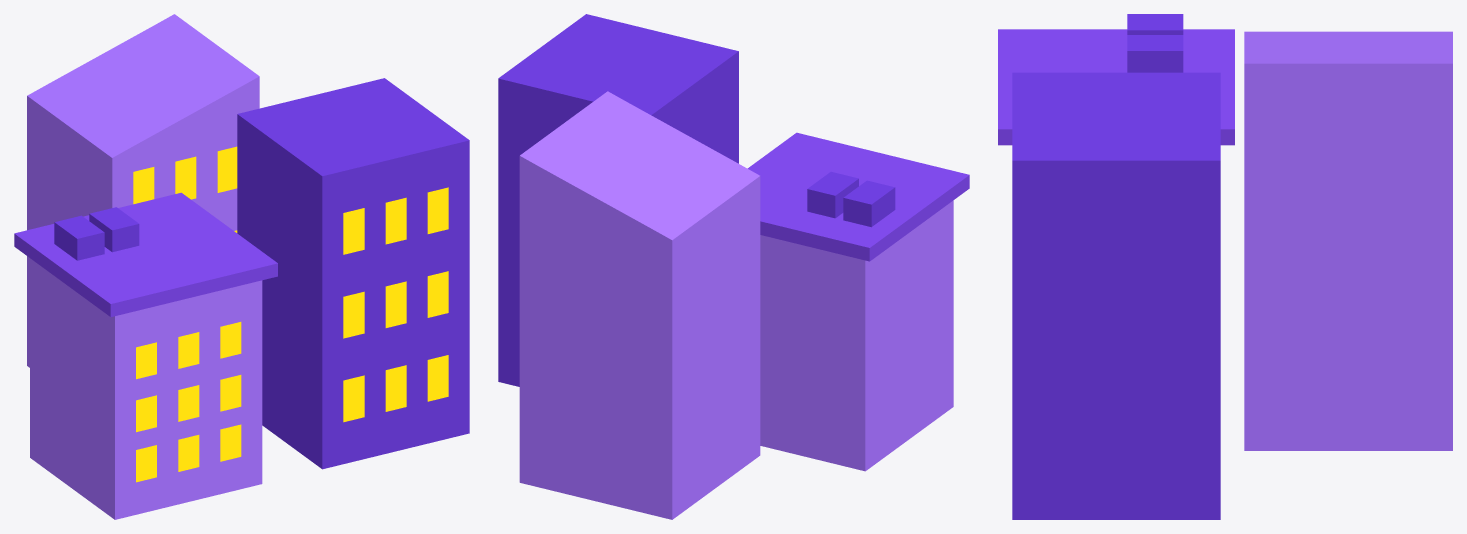
The model's file is cityscape_at_dusk.glb.
The picture shows the model from 3 angles, left to right: view 1: azimuth 30°, elevation 25°; view 2: azimuth 150°, elevation 25°; view 3: azimuth 270°, elevation 25°; orthographic projection. The views are drawn at different scales.
Visible parts, largest first — view 1: Cube.532; view 2: Cube.532; view 3: Cube.532.
Boxes of the visible parts, x1=… form: Cube.532: x1=14, y1=14, x2=469, y2=519; Cube.532: x1=498, y1=14, x2=969, y2=519; Cube.532: x1=998, y1=14, x2=1452, y2=519.
Size of the model in its own units: 1.98 by 1.65 by 1.74.
1 material, 1 textured.
